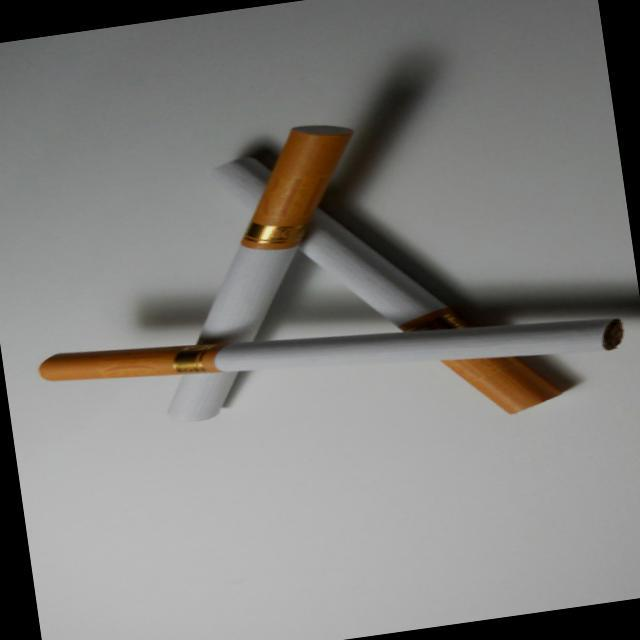cigarette: (23, 271, 629, 439)
